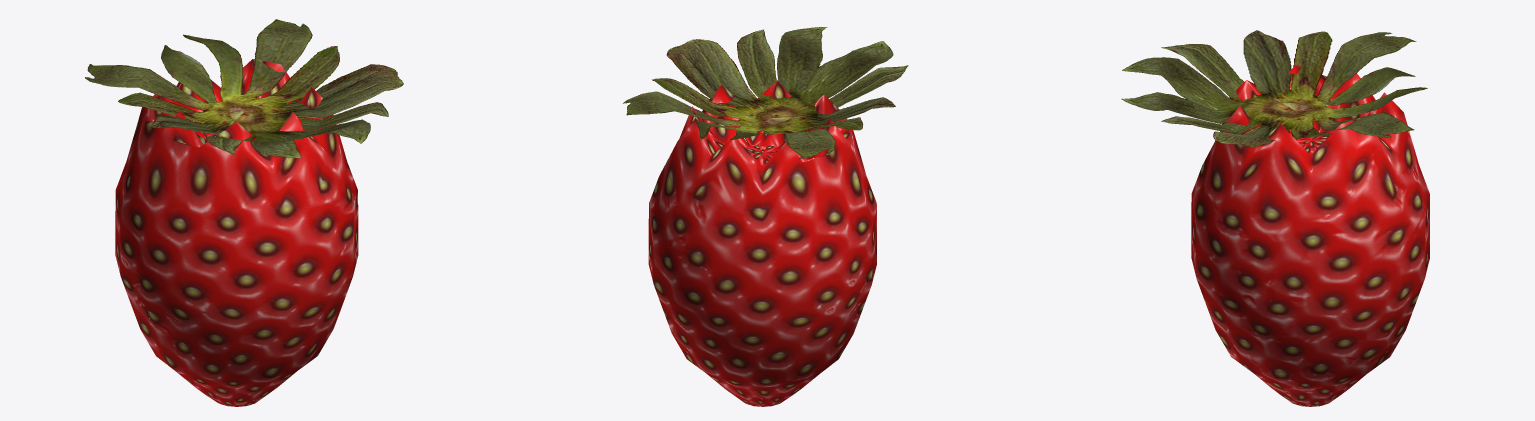
Rendered from berry.fbx.
3 renders of one model, left to right at view 1: azimuth 30°, elevation 25°; view 2: azimuth 150°, elevation 25°; view 3: azimuth 270°, elevation 25°, orthographic. The views are drawn at different scales.
Parts seen in each view (by area): view 1: pSphere1, pCylinder1; view 2: pSphere1, pCylinder1; view 3: pSphere1, pCylinder1.
Boxes of the visible parts, x1=… form: pSphere1: x1=115, y1=59, x2=358, y2=406; pCylinder1: x1=85, y1=19, x2=403, y2=158; pSphere1: x1=648, y1=80, x2=876, y2=406; pCylinder1: x1=623, y1=27, x2=908, y2=159; pSphere1: x1=1191, y1=65, x2=1429, y2=406; pCylinder1: x1=1121, y1=30, x2=1427, y2=146.
Size of the model in its own units: 6.54 by 4.72 by 6.57.
